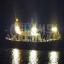fishing boat: (3, 2, 64, 54)
